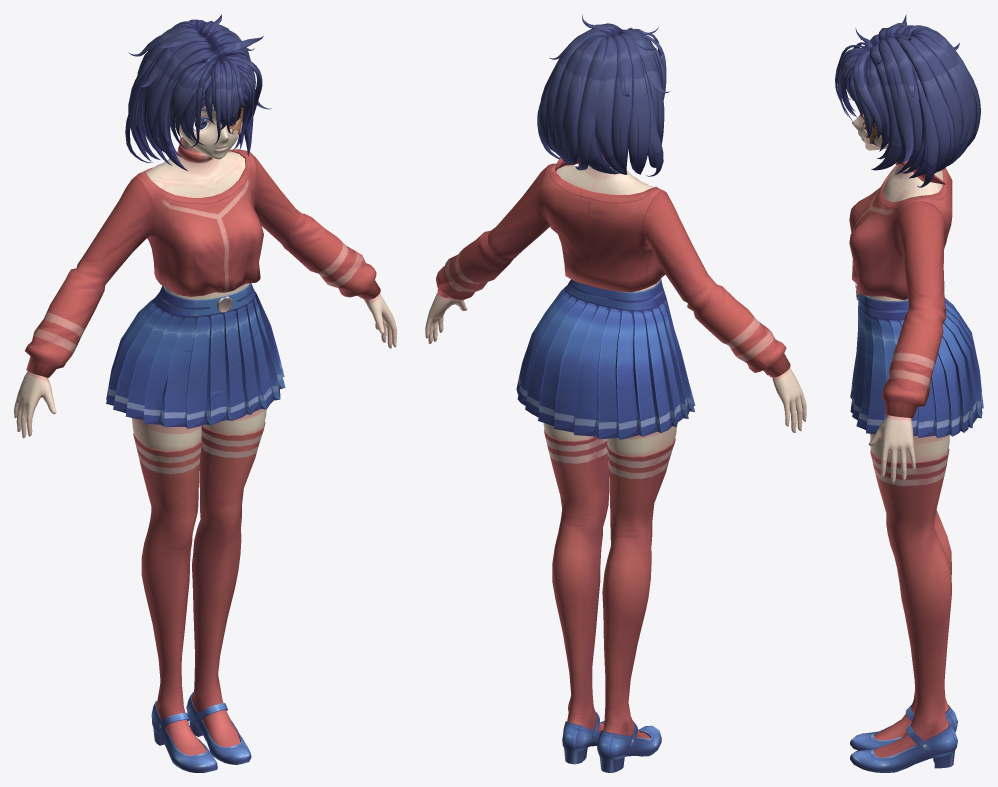
The model's file is mita.fbx.
The picture shows the model from 3 angles, left to right: view 1: azimuth 30°, elevation 25°; view 2: azimuth 150°, elevation 25°; view 3: azimuth 270°, elevation 25°; orthographic projection.
Parts seen in each view (by area): view 1: Sweater.003, Pantyhose.004, Skirt.007, Hair.005, Body.008, Shoes.004, Head.001; view 2: Sweater.003, Pantyhose.004, Skirt.007, Hair.005, Body.008, Shoes.004; view 3: Hair.005, Sweater.003, Pantyhose.004, Skirt.007, Body.008, Shoes.004, Head.001.
Part boxes in pixels (x1,y1,x2,y2): Sweater.003: (25, 137, 380, 377); Pantyhose.004: (133, 422, 265, 755); Skirt.007: (106, 283, 285, 428); Hair.005: (125, 14, 271, 170); Body.008: (14, 136, 396, 451); Shoes.004: (151, 691, 251, 772); Head.001: (170, 104, 243, 159); Sweater.003: (436, 155, 790, 377); Pantyhose.004: (544, 429, 675, 738); Skirt.007: (516, 279, 695, 439); Hair.005: (537, 14, 670, 176); Body.008: (425, 153, 806, 456); Shoes.004: (562, 711, 661, 772); Hair.005: (835, 14, 980, 187); Sweater.003: (849, 158, 952, 418); Pantyhose.004: (870, 448, 951, 757); Skirt.007: (850, 283, 983, 438); Body.008: (866, 165, 949, 483); Shoes.004: (850, 704, 957, 772); Head.001: (852, 111, 888, 150).
Bounding box in the file's own units: 96.67 × 181 × 33.4.
